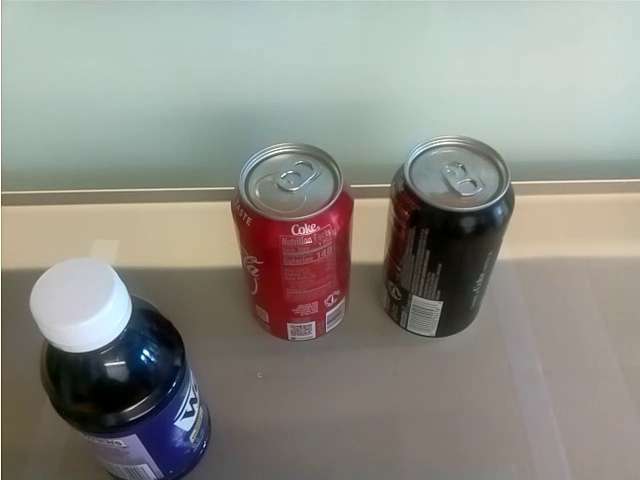cocacola: (225, 144, 357, 345)
cocacola-zero: (382, 136, 517, 340)
juice: (30, 253, 212, 480)
